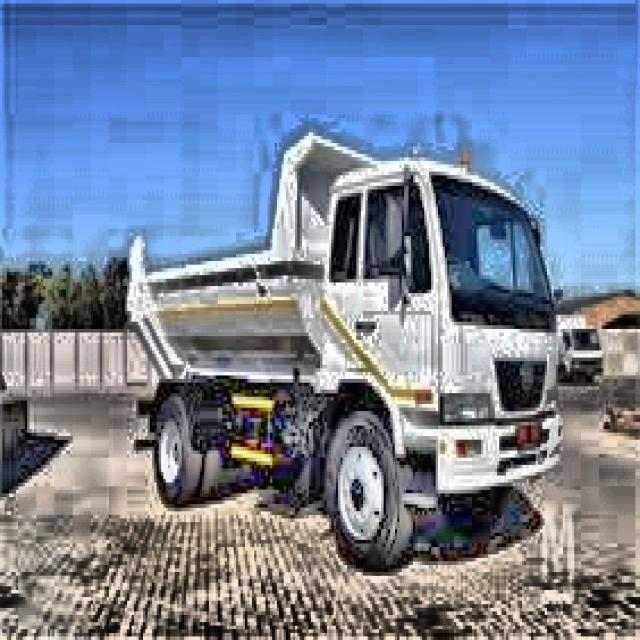dump_truck: (122, 125, 560, 571)
